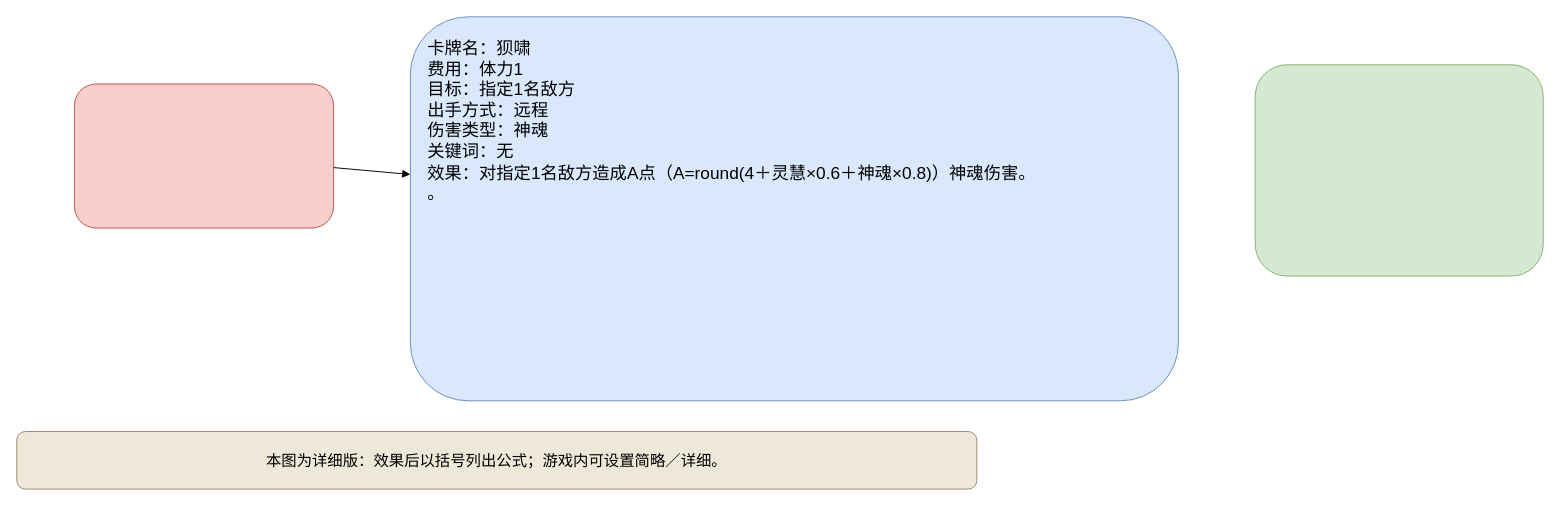
This 1560x506 diagram has some shape labels left out. The centre of each missing label's shape, as x and y in pixels:
来源／前置 林地妖狈技能库 无装备要求: (x=203, y=155)
结算边界 正常行动槽，1体力 无返费、额外行动或附加状态 神魂对抗与伤害沿用现有规则 无额外次数或回合冷却: (x=1398, y=170)
